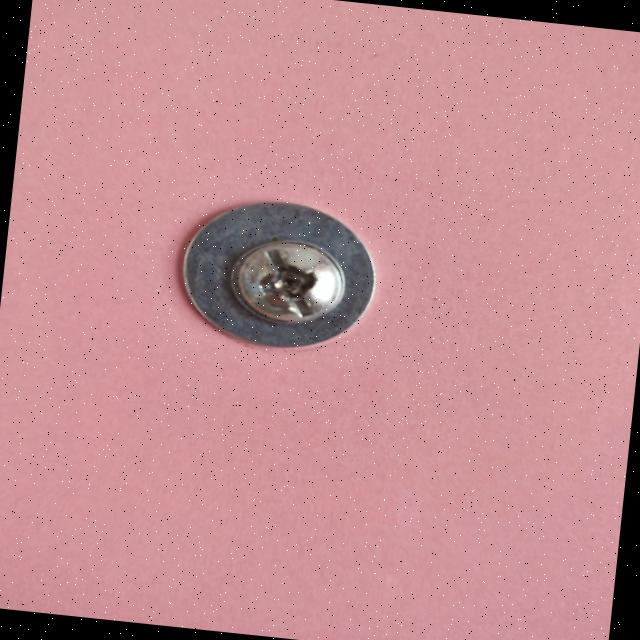Phillips: (191, 223, 365, 335)
